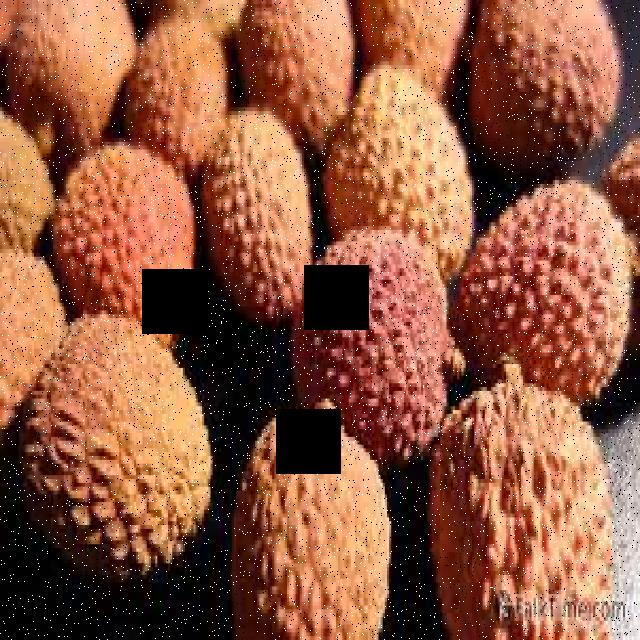lychee: (218, 65, 492, 636)
